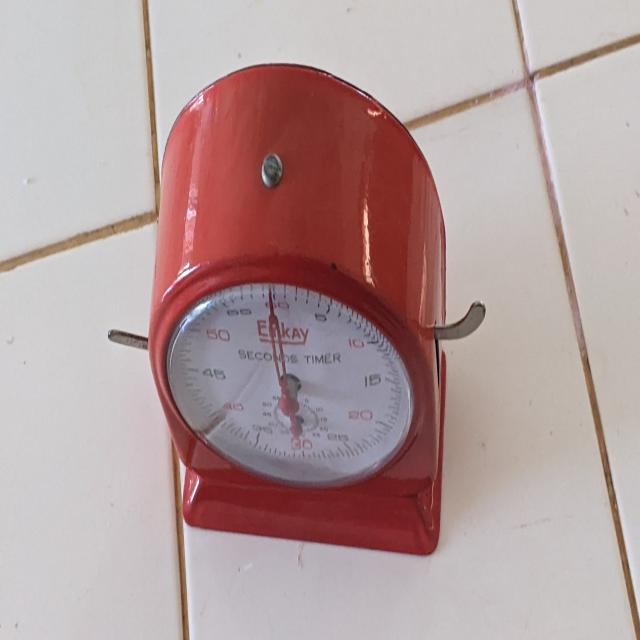Analog Stopwatch: (128, 44, 480, 571)
